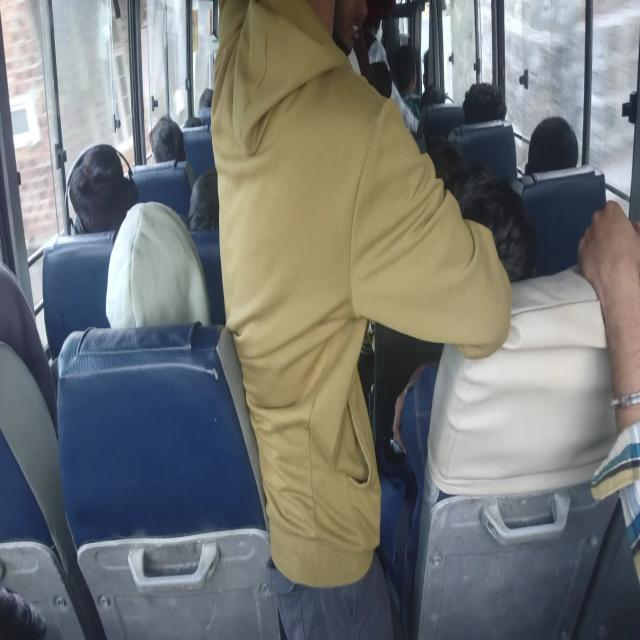person: (214, 0, 418, 428), (103, 222, 204, 365), (465, 176, 546, 282), (65, 145, 143, 227), (341, 0, 396, 99), (0, 275, 40, 398), (521, 112, 579, 187), (0, 575, 57, 640), (188, 169, 238, 238), (319, 0, 369, 64), (458, 80, 510, 132), (431, 144, 482, 193), (148, 108, 192, 163), (391, 40, 423, 81), (193, 79, 221, 119), (415, 80, 443, 117)
